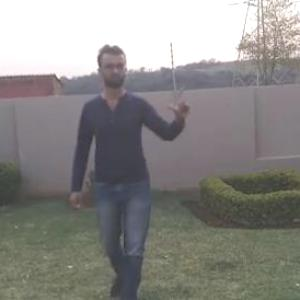land_hand: (167, 78, 195, 125)
